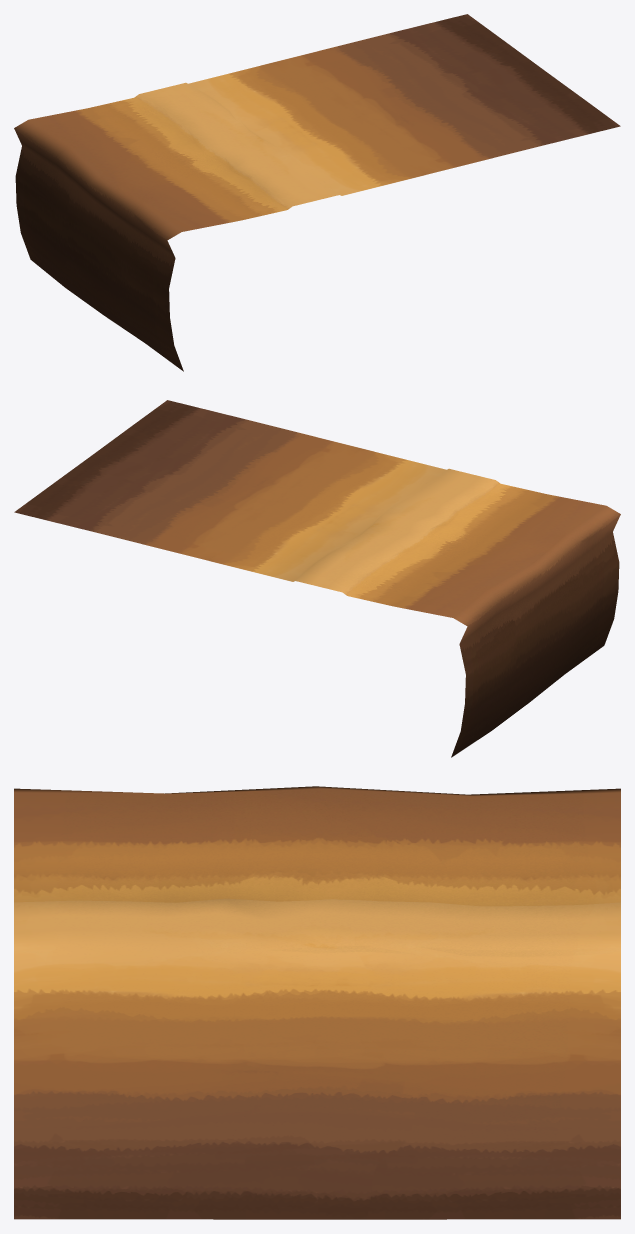
The model's file is Sol_Centre.FBX.
3 views of the same model, one above another, from view 1: azimuth 30°, elevation 25°; view 2: azimuth 150°, elevation 25°; view 3: azimuth 270°, elevation 25° (orthographic). The views are drawn at different scales.
Parts seen in each view (by area): view 1: Sol_Centre; view 2: Sol_Centre; view 3: Sol_Centre.
Boxes of the visible parts, x1,y1,x2,y2 form: Sol_Centre: (14,14,620,371); Sol_Centre: (14,400,620,757); Sol_Centre: (14,786,620,1219).
Size of the model in its own units: 34.25 by 10.11 by 20.
